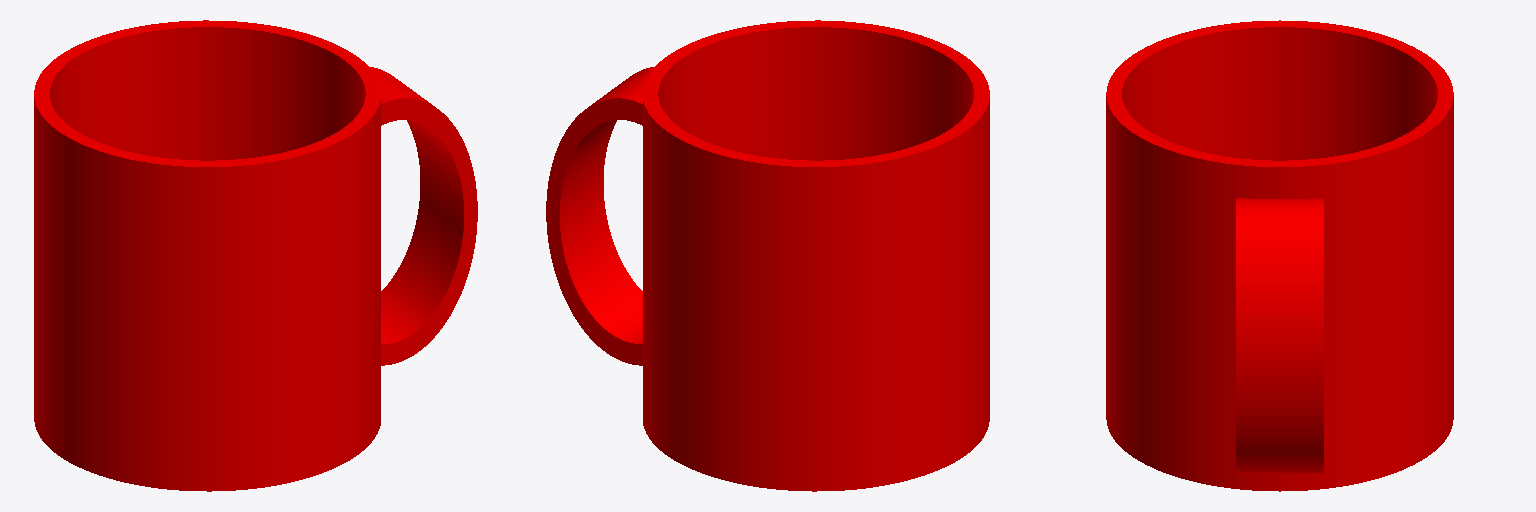
URDF robot description (mug.urdf):
<?xml version="1.0" ?>
<robot name="mug.urdf">
  <link name="baseLink">
    <inertial>
      <origin rpy="0 0 0" xyz="0 0 0"/>
       <mass value=".1"/>
       <inertia ixx="1" ixy="0" ixz="0" iyy="1" iyz="0" izz="1"/>
    </inertial>
    <contact>
      <lateral_friction value="1.0"/>
      <inertia_scaling value="3.0"/>
    </contact>
    <visual>
      <origin rpy="0 0 0" xyz="0 0 0"/>
      <geometry>
        <mesh filename="5.stl" scale="1 1 1" />
      </geometry>
      <material name="red">
        <color rgba="1 0 0 1"/>
      </material>
    </visual>
    <collision>
      <origin rpy="0 0 0" xyz="0 0 0"/>
      <geometry>
        <mesh filename="5_convex.obj" scale="1 1 1" />
      </geometry>
    </collision>
  </link>
</robot>

--- Facts derived from the render (not from the file) ---
Views: 3 orthographic renders of the robot side by side, from view 1: azimuth 30°, elevation 25°; view 2: azimuth 150°, elevation 25°; view 3: azimuth 270°, elevation 25°.
Model mug.urdf with 1 links and 0 joints (none), rooted at baseLink, posed all joints at 0.
Visible links, largest first — view 1: baseLink; view 2: baseLink; view 3: baseLink.
Boxes of the visible links, x1=… form: baseLink: x1=34, y1=20, x2=477, y2=491; baseLink: x1=546, y1=20, x2=989, y2=491; baseLink: x1=1106, y1=20, x2=1453, y2=491.
Size in the robot's own frame: 0.1467 by 0.1107 by 0.114 metres.
1 mesh visuals loaded from 1 distinct referenced files (1 binary STL).